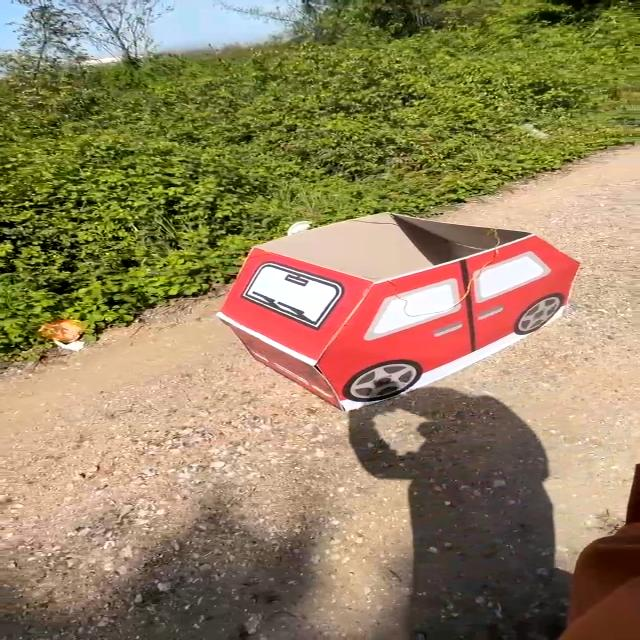red_car: (190, 206, 606, 419)
